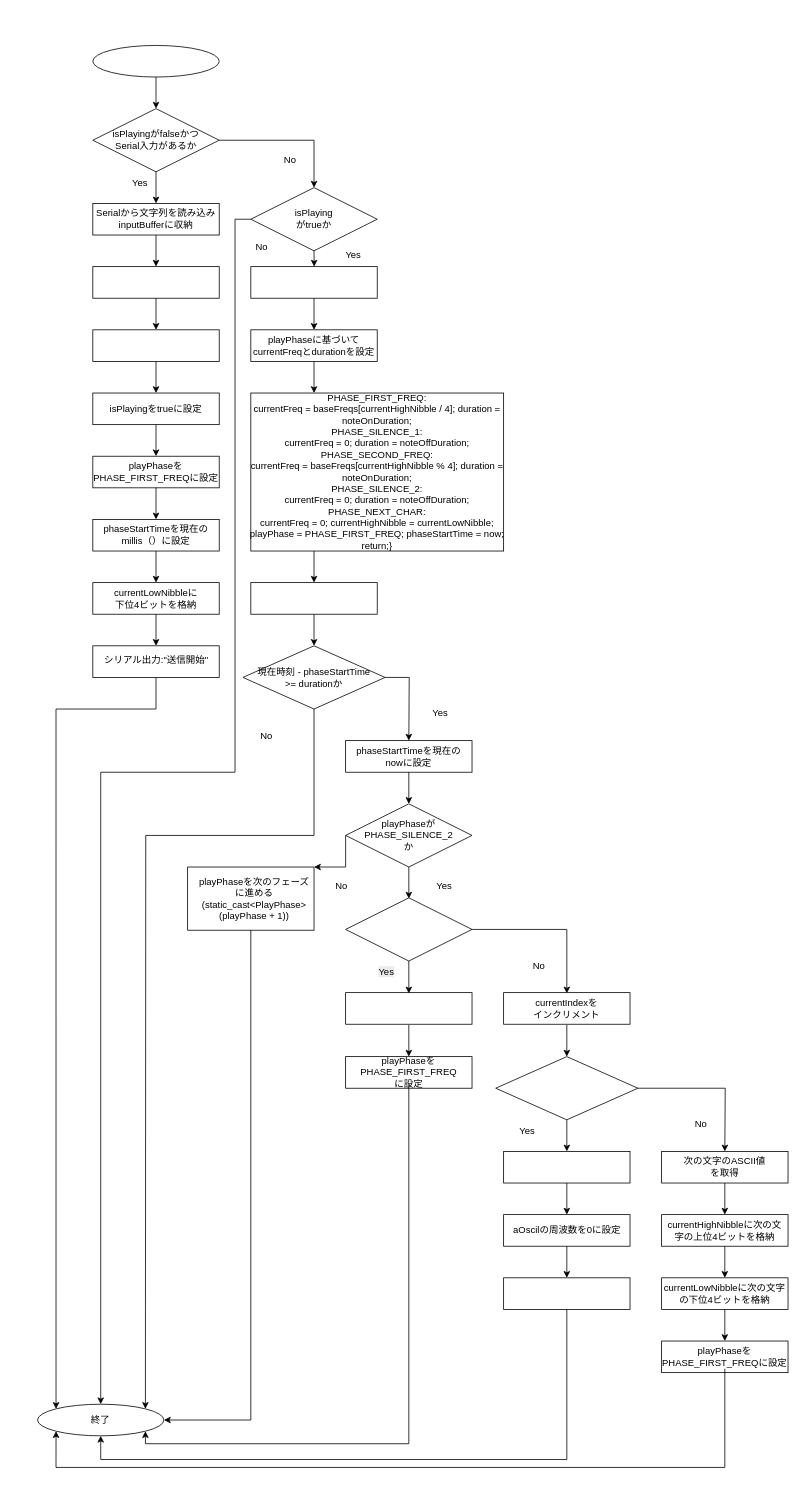
Image size: 809x1488. Some labels were removed from this diagram. Each missing label, with the centre of its shape:
aOscilの周波数をcurrentFreqに設定: point (313, 598)
currentHighNibbleが元の文字の上位4ビットか: point (408, 929)
currentHighNibbleを下位4ビットに設定: point (408, 1008)
currentIndexがinputBufferの長さを超えているか: point (566, 1088)
currentIndexを0に設定: point (155, 345)
inputBufferに3つの終了信号として0xFFを追加: point (155, 282)
isPlayingをfalseに設定: point (566, 1167)
シリアル出力:"送信終了": point (566, 1293)
現在の時刻(now)を取得: point (313, 282)
開始: point (155, 61)
